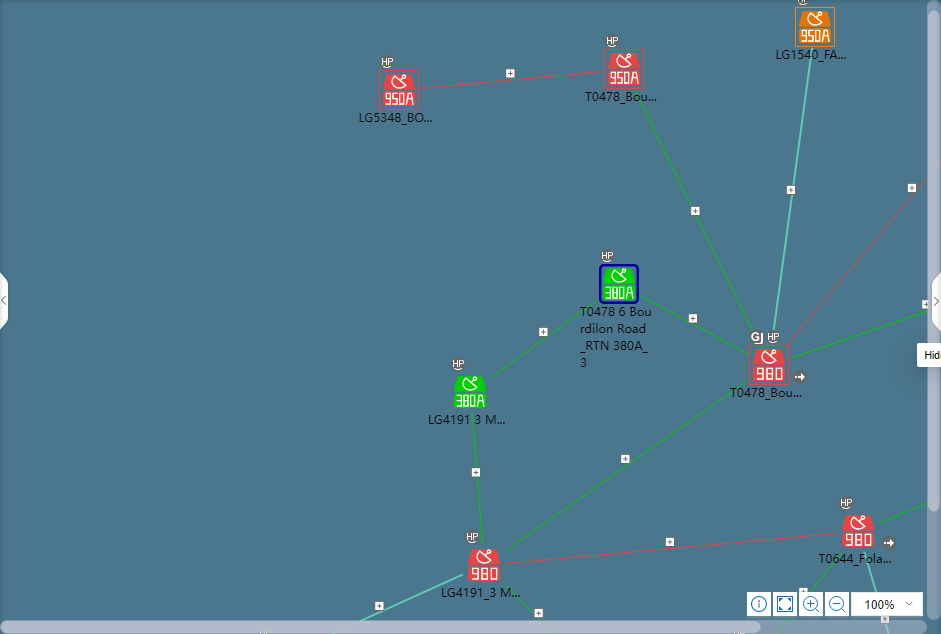Link_Blue: (772, 49, 814, 331), (357, 572, 465, 622), (863, 552, 879, 593)
Link_Green: (504, 380, 749, 553), (632, 92, 754, 331), (489, 300, 597, 382), (790, 309, 928, 361), (641, 294, 745, 355), (470, 415, 484, 545), (807, 553, 844, 592), (879, 502, 928, 526), (503, 583, 534, 616)
Link_Red: (789, 176, 927, 345), (505, 530, 840, 566), (417, 69, 602, 93)
RTN_Green: (599, 265, 638, 303), (453, 377, 485, 408)
RTN_Orange: (796, 9, 832, 45)
RTN_Red: (604, 52, 642, 87), (380, 71, 416, 106), (751, 349, 785, 382), (468, 550, 499, 582), (842, 517, 873, 548)
